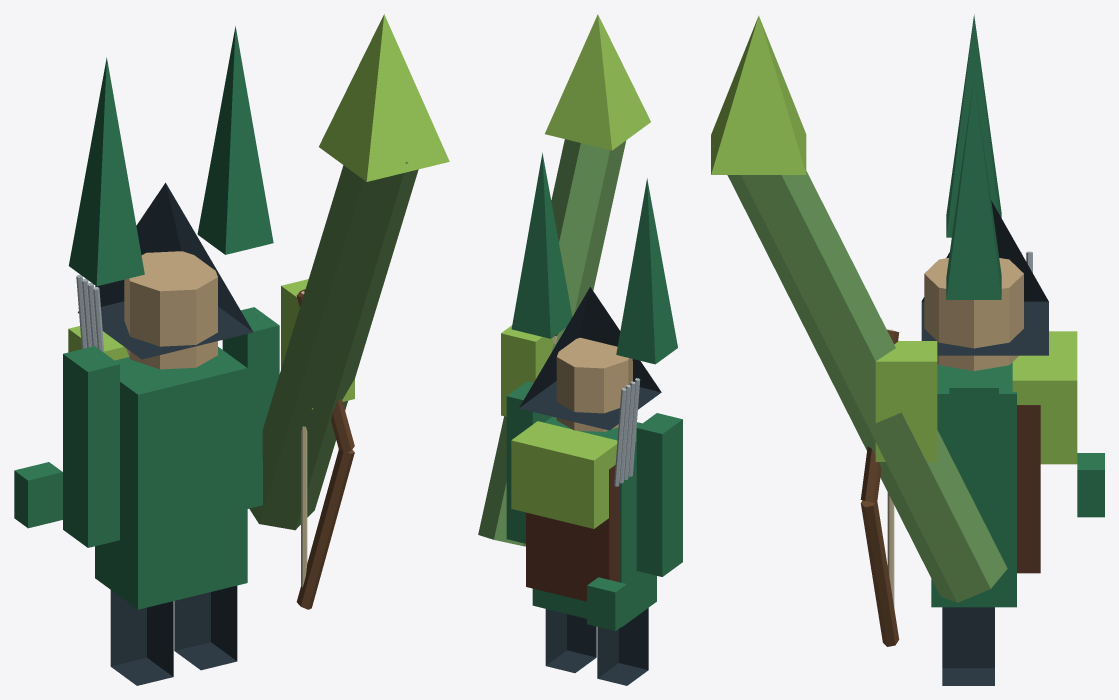
The model's file is anti-air-infantry.obj.
3 views of the same model, side by side, from view 1: azimuth 30°, elevation 25°; view 2: azimuth 150°, elevation 25°; view 3: azimuth 270°, elevation 25° (orthographic). The views are drawn at different scales.
Parts seen in each view (by area): view 1: ranged; view 2: ranged; view 3: ranged.
Part boxes in pixels (bbox=[...]): ranged: bbox=[14, 14, 449, 685]; ranged: bbox=[478, 14, 682, 685]; ranged: bbox=[711, 14, 1104, 685].
Size of the model in its own units: 0.902 by 2.5 by 1.28.
